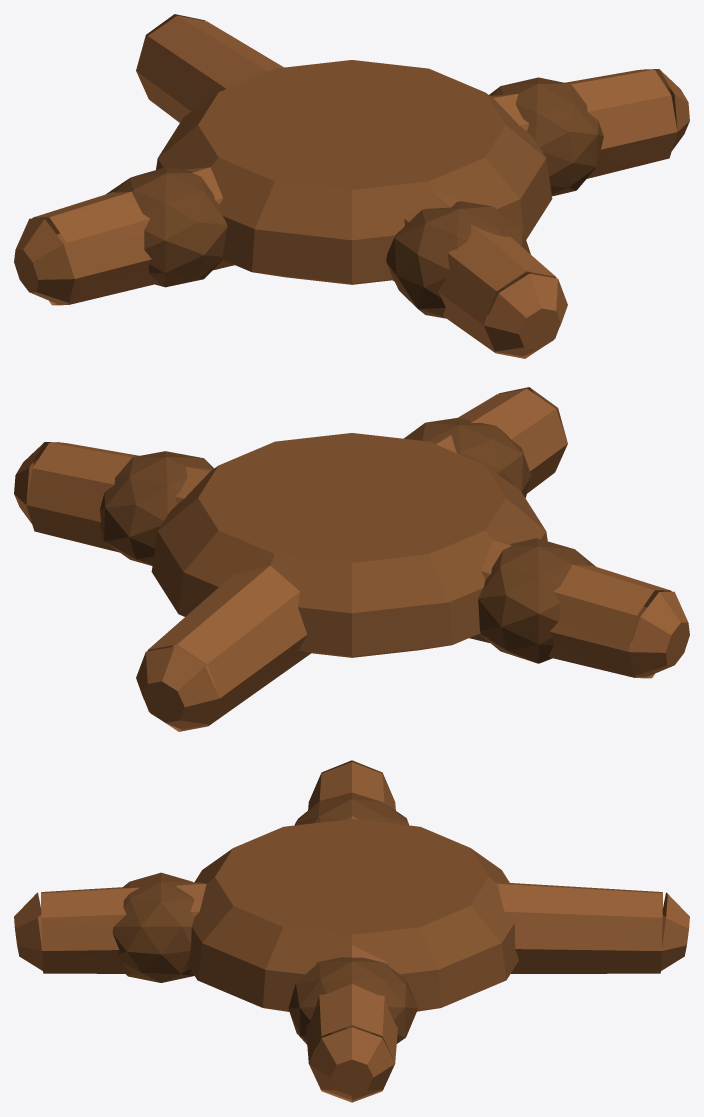
File: KnottedRoot.obj
3 views of the same model, one above another, from view 1: azimuth 30°, elevation 25°; view 2: azimuth 150°, elevation 25°; view 3: azimuth 270°, elevation 25° (orthographic). The views are drawn at different scales.
Parts seen in each view (by area): view 1: KnottedRoot_KnottedBase, KnottedRoot_KnottedRoots, KnottedRoot_KnottedKnots; view 2: KnottedRoot_KnottedBase, KnottedRoot_KnottedRoots, KnottedRoot_KnottedKnots; view 3: KnottedRoot_KnottedBase, KnottedRoot_KnottedRoots, KnottedRoot_KnottedKnots.
Boxes of the visible parts, x1,y1,x2,y2 form: KnottedRoot_KnottedBase: (156, 60, 552, 284); KnottedRoot_KnottedRoots: (14, 14, 689, 358); KnottedRoot_KnottedKnots: (106, 77, 603, 318); KnottedRoot_KnottedBase: (151, 433, 547, 657); KnottedRoot_KnottedRoots: (14, 387, 689, 731); KnottedRoot_KnottedKnots: (100, 418, 595, 663); KnottedRoot_KnottedBase: (187, 819, 518, 1011); KnottedRoot_KnottedRoots: (14, 760, 689, 1102); KnottedRoot_KnottedKnots: (112, 792, 417, 1048).
Bounding box in the file's own units: 3.7 × 0.6 × 3.7.
